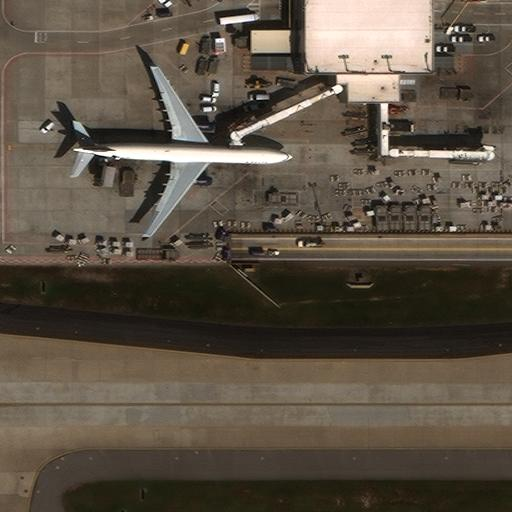Large Civil Transport: (72, 67, 292, 237)
